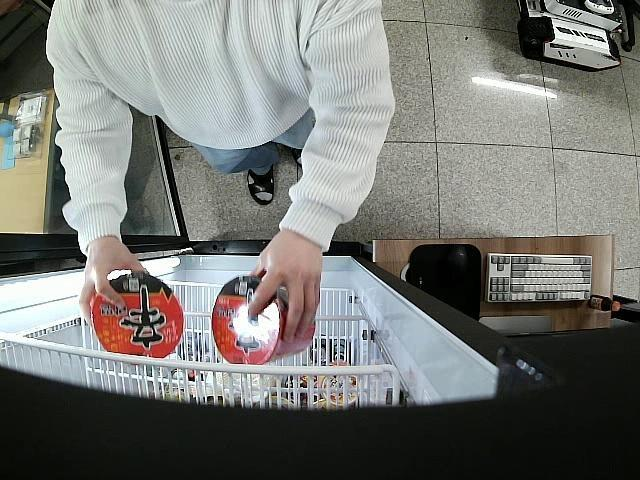01_ShinRamen_L: (210, 275, 316, 366), (90, 270, 186, 360)
